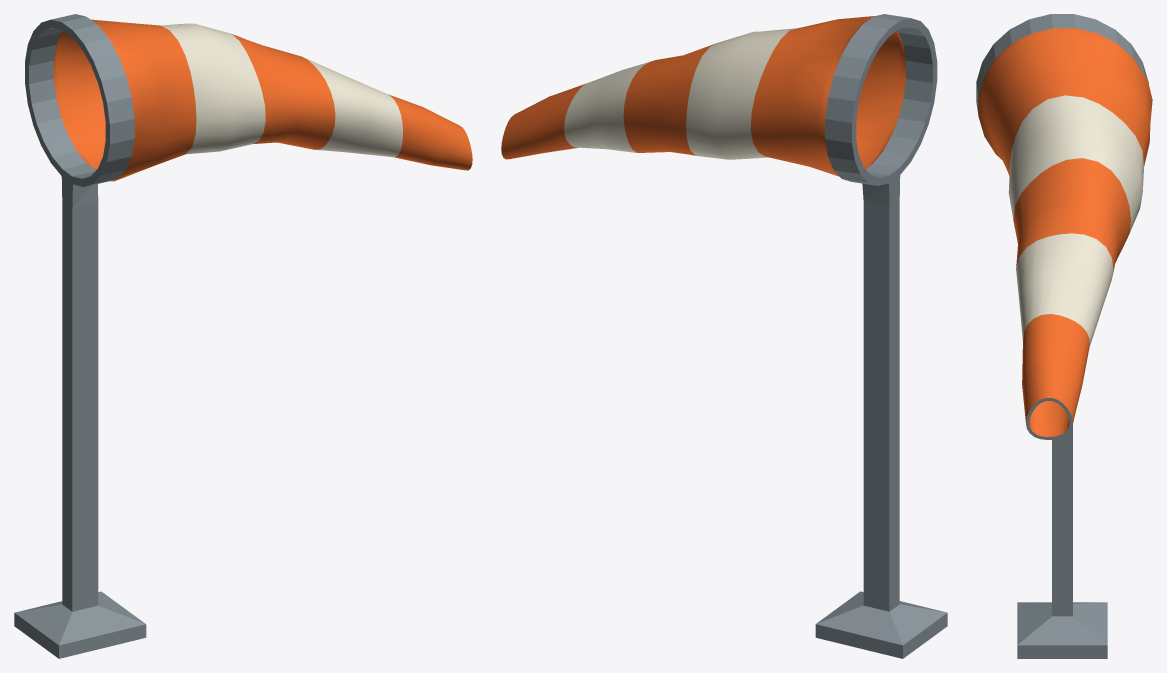
The model's file is NEW_RECOVERY_092_LOD1.glb.
3 renders of one model, left to right at view 1: azimuth 30°, elevation 25°; view 2: azimuth 150°, elevation 25°; view 3: azimuth 270°, elevation 25°, orthographic.
Parts seen in each view (by area): view 1: WholeWindsock; view 2: WholeWindsock; view 3: WholeWindsock.
Part boxes in pixels (x1,y1,x2,y2): WholeWindsock: (14, 14, 472, 658); WholeWindsock: (501, 14, 947, 658); WholeWindsock: (976, 14, 1152, 658).
Size of the model in its own units: 2.59 by 3.61 by 0.9334.
